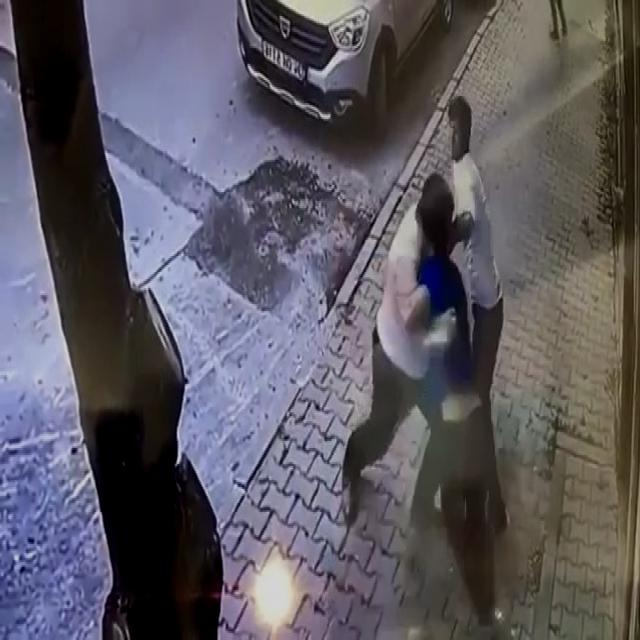fight: (369, 167, 474, 607)
